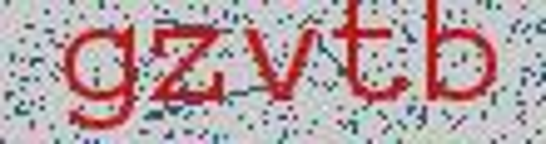b: (417, 1, 501, 114)
g: (55, 11, 140, 138)
t: (327, 1, 413, 120)
v: (242, 16, 324, 108)
z: (146, 22, 228, 113)
